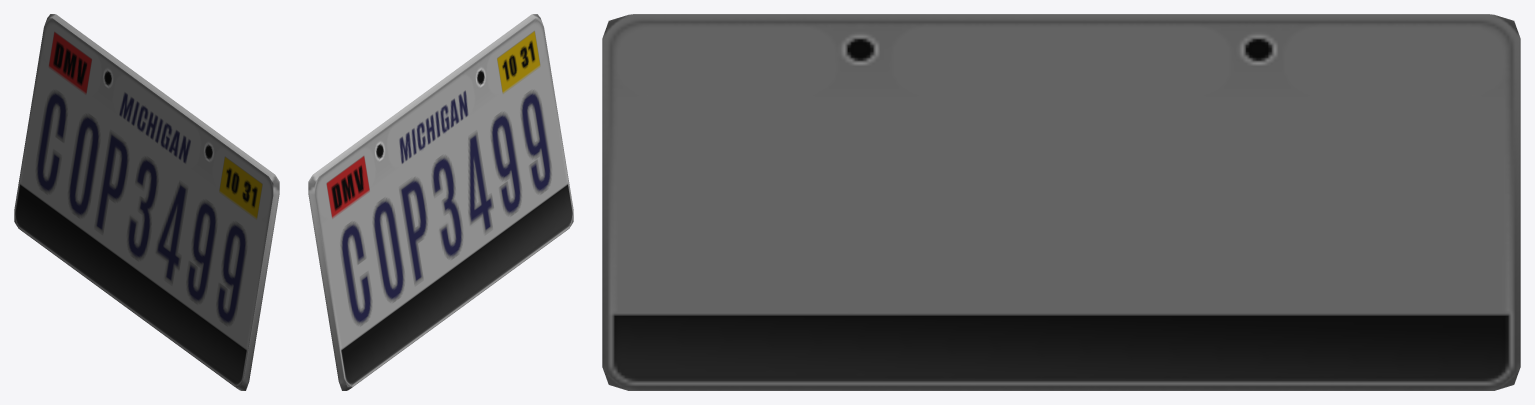
The model's file is gallo99cop_numberplate_rear_numberplates_misk_u_0.002_lev3.glb.
3 views of the same model, side by side, from view 1: azimuth 30°, elevation 25°; view 2: azimuth 150°, elevation 25°; view 3: azimuth 270°, elevation 25° (orthographic). The views are drawn at different scales.
Parts seen in each view (by area): view 1: gallo99cop_numberplate_rear_numberplates_misk_u_0.002_lev3; view 2: gallo99cop_numberplate_rear_numberplates_misk_u_0.002_lev3; view 3: gallo99cop_numberplate_rear_numberplates_misk_u_0.002_lev3.
Part boxes in pixels (x1=…): gallo99cop_numberplate_rear_numberplates_misk_u_0.002_lev3: x1=14, y1=14, x2=279, y2=390; gallo99cop_numberplate_rear_numberplates_misk_u_0.002_lev3: x1=308, y1=14, x2=573, y2=390; gallo99cop_numberplate_rear_numberplates_misk_u_0.002_lev3: x1=602, y1=14, x2=1520, y2=390.
Size of the model in its own units: 0.0289 by 0.1477 by 0.3.
1 material, 1 textured.
